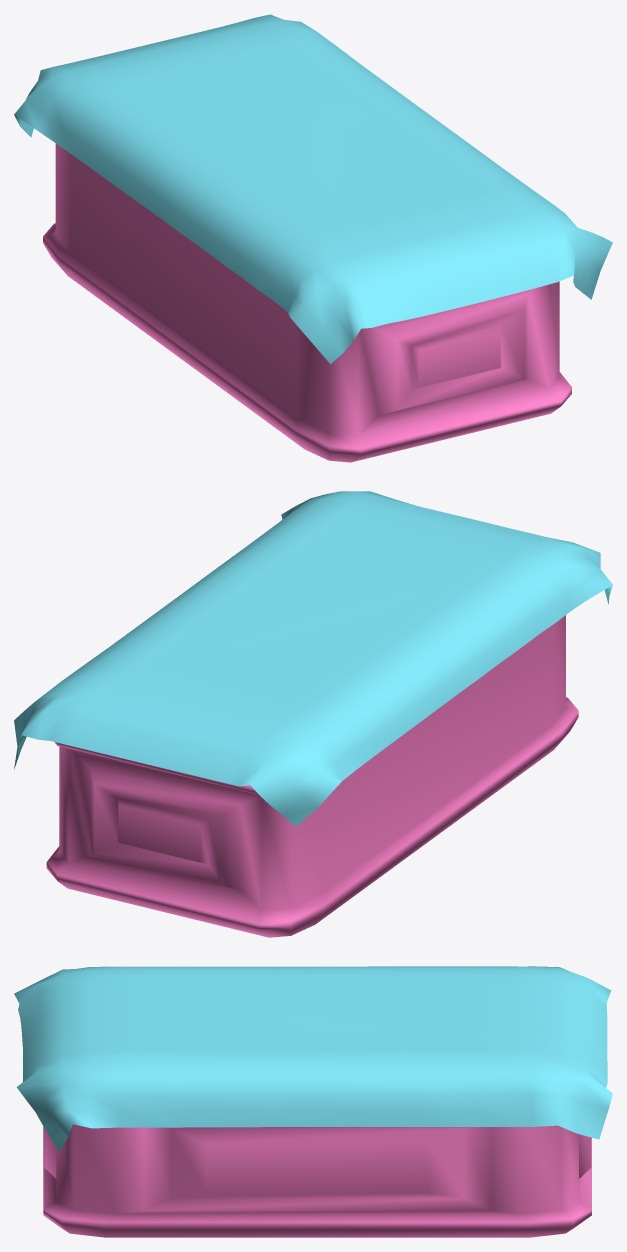
The model's file is Altar Stone.fbx.
The picture shows the model from 3 angles, top to bottom: view 1: azimuth 30°, elevation 25°; view 2: azimuth 150°, elevation 25°; view 3: azimuth 270°, elevation 25°; orthographic projection. The views are drawn at different scales.
Parts seen in each view (by area): view 1: Oltarz LP; view 2: Oltarz LP; view 3: Oltarz LP.
Part boxes in pixels (x1=…): Oltarz LP: x1=14, y1=14, x2=612, y2=462; Oltarz LP: x1=14, y1=491, x2=612, y2=937; Oltarz LP: x1=14, y1=966, x2=612, y2=1237.
Size of the model in its own units: 83.8 by 48.21 by 148.
